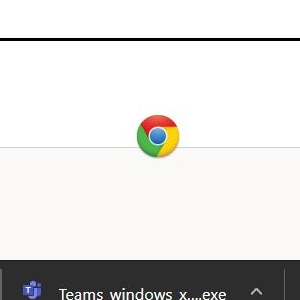chrome: (136, 114, 180, 159)
